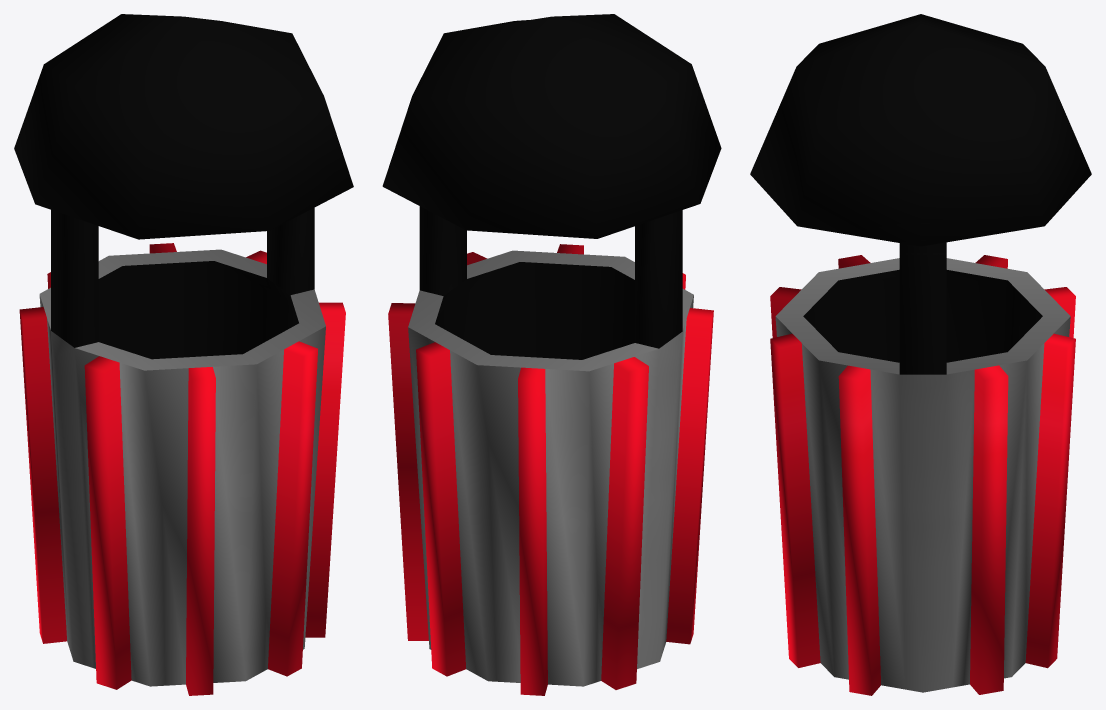
Rendered from Rubbish_5.fbx.
The picture shows the model from 3 angles, left to right: view 1: azimuth 30°, elevation 25°; view 2: azimuth 150°, elevation 25°; view 3: azimuth 270°, elevation 25°; orthographic projection.
Visible parts, largest first — view 1: Rubbish_5; view 2: Rubbish_5; view 3: Rubbish_5.
Part boxes in pixels (x1,y1,x2,y2): Rubbish_5: [14, 14, 353, 695]; Rubbish_5: [382, 14, 721, 695]; Rubbish_5: [750, 14, 1091, 695].
Bounding box in the file's own units: 68.6 × 137 × 68.6.
Materials: 1 (1 with a texture image).
